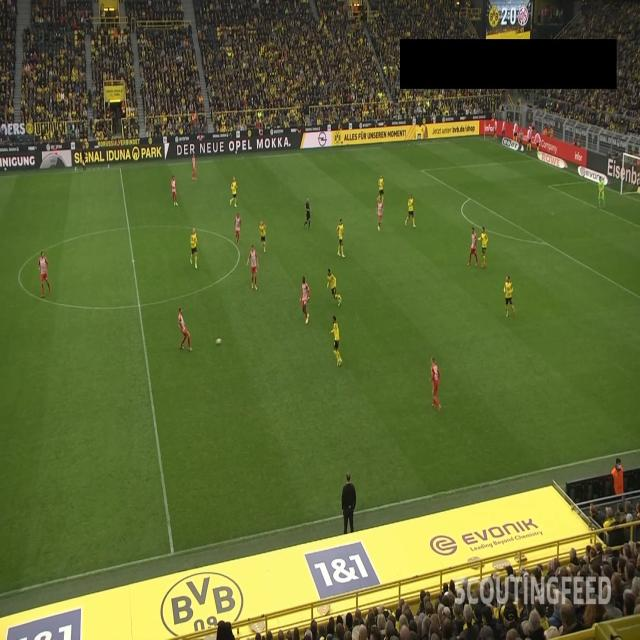ball: (215, 337, 222, 346)
